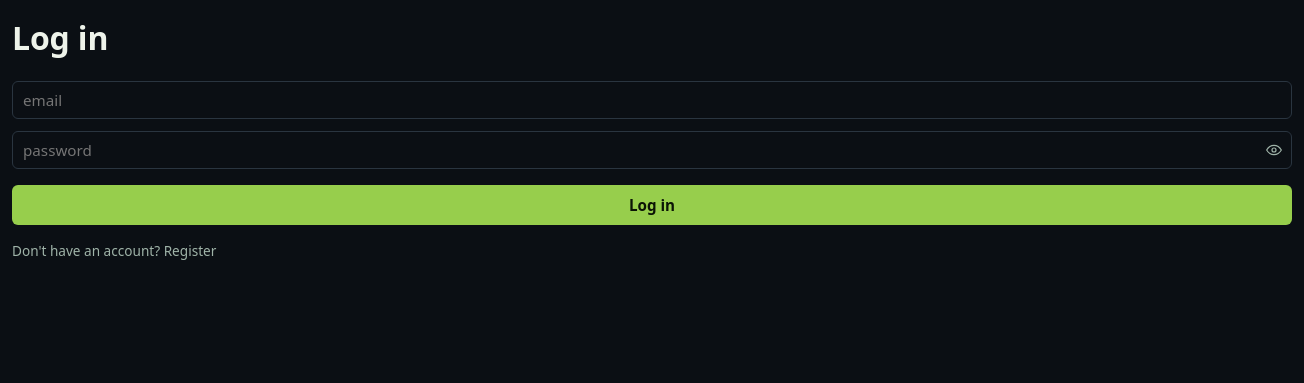
Test: LoginForm › switches to register mode — heading and submit button update, and posts to /api/auth/register
Expected: the heading "Log in" is shown, [12,16,108,59]
Click the button "Don't have an account? Register". click: (114, 250)
box: [12,237,1292,264]
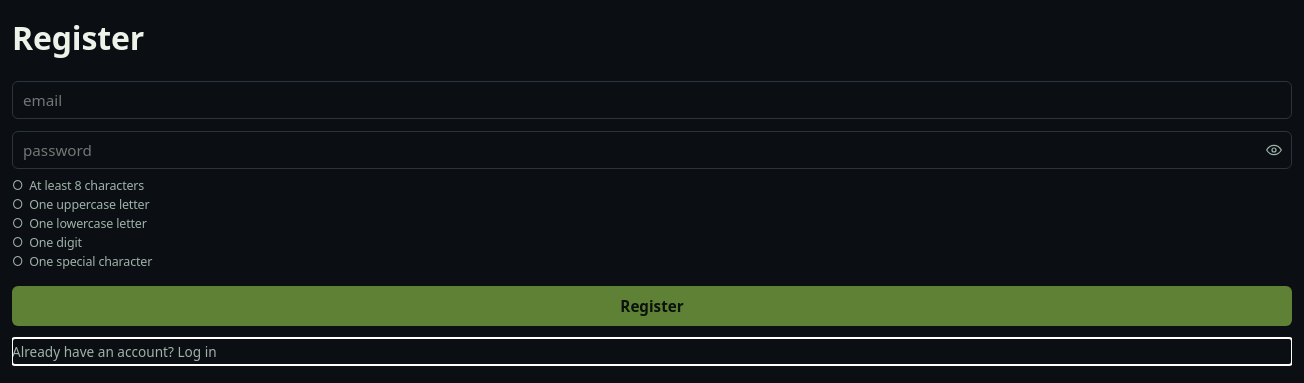
Expected: the heading "Register" is shown, [12,16,144,59]
Expected: the button "Already have an account? Log in" is shown, [12,338,1292,365]
Type "new@example.com" into the field with placeholder "email". click: (652, 100)
box: [12,81,1292,119]
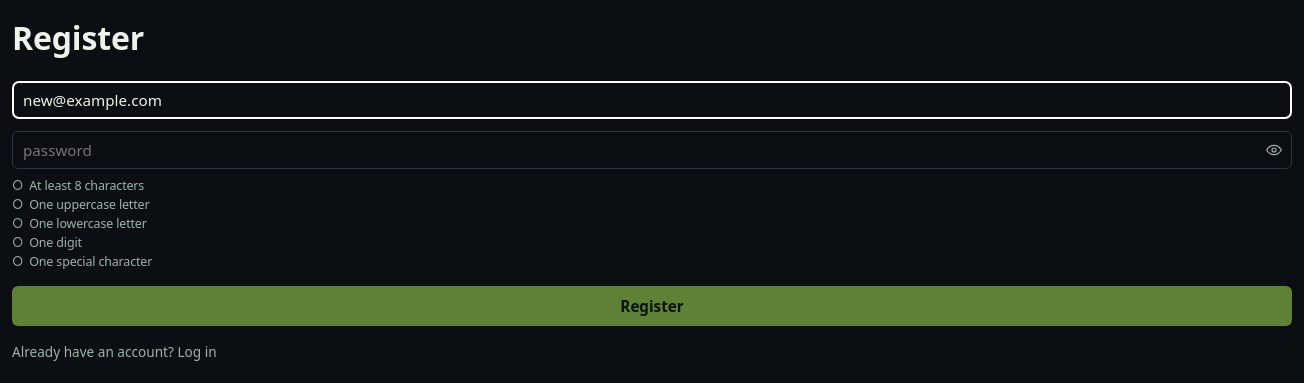
Type "Password123!" into the password field with placeholder "password". click: (652, 150)
box: [12,131,1292,169]
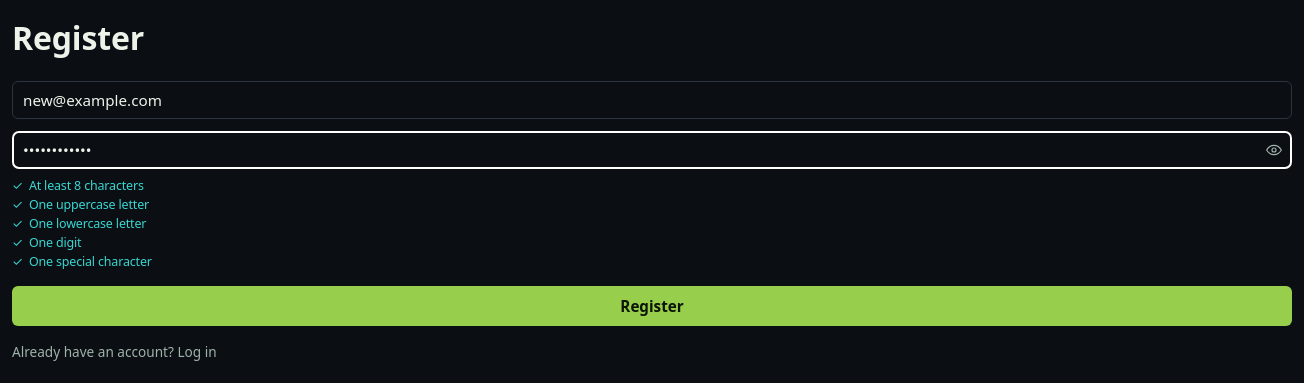
Click the button "Register". click: (652, 306)
box: [12,286,1292,326]
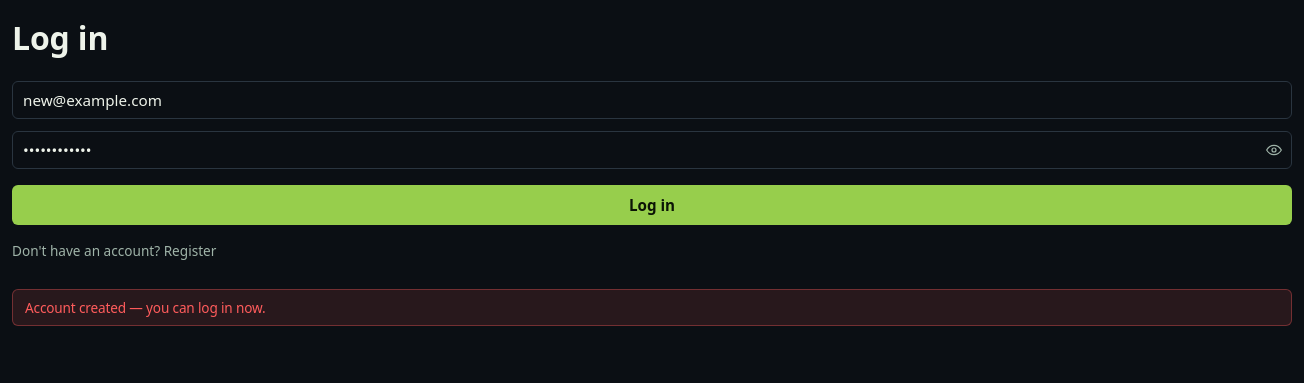
Expected: the text "Account created — you can log in now." is shown, [12,290,1292,326]
Expected: the heading "Log in" is shown, [12,16,108,59]
